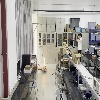fire: (42, 54, 46, 69)
